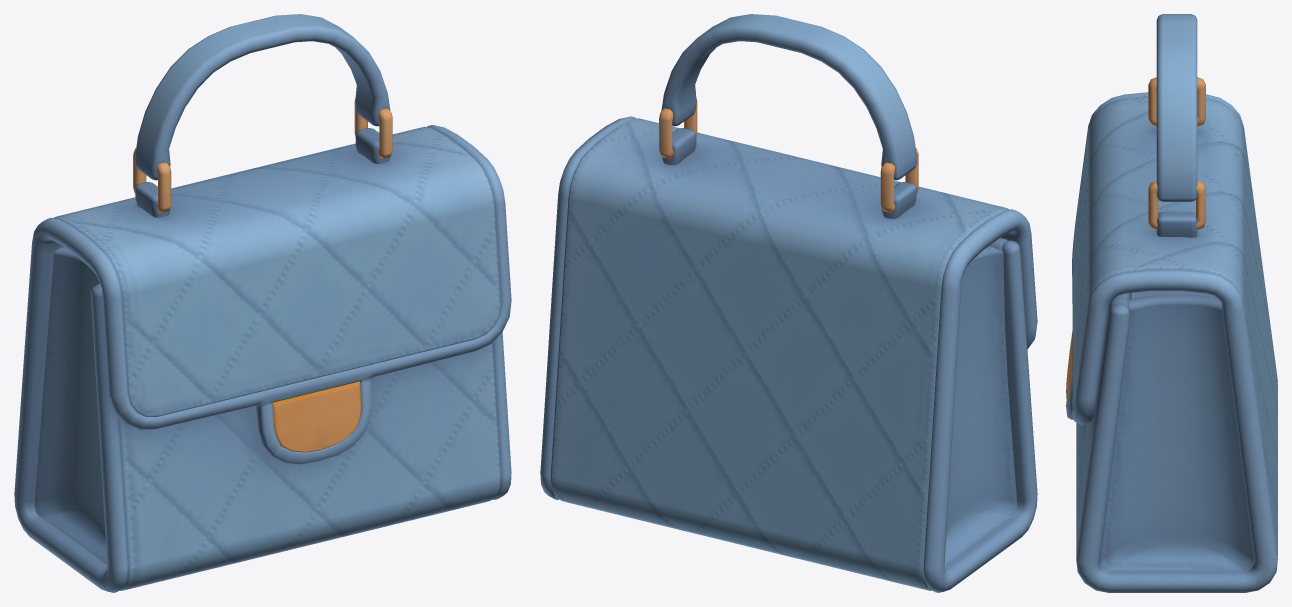
File: StackUp_Bag.fbx
3 views of the same model, side by side, from view 1: azimuth 30°, elevation 25°; view 2: azimuth 150°, elevation 25°; view 3: azimuth 270°, elevation 25° (orthographic). The views are drawn at different scales.
Parts seen in each view (by area): view 1: StackUp_Bag; view 2: StackUp_Bag; view 3: StackUp_Bag.
Boxes of the visible parts, left/top/right/bottom form: StackUp_Bag: left=14, top=14, right=511, bottom=592; StackUp_Bag: left=540, top=14, right=1037, bottom=592; StackUp_Bag: left=1066, top=14, right=1277, bottom=592.
Size of the model in its own units: 13.15 by 15.46 by 6.31.
